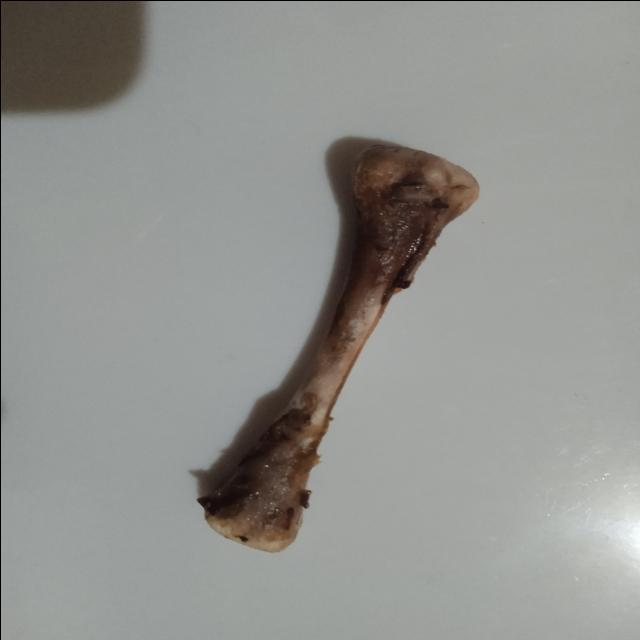bone: (192, 132, 486, 558)
